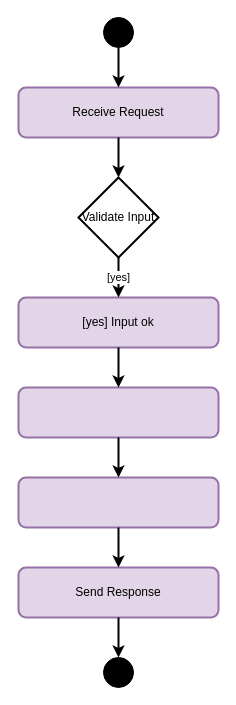
Image size: 236x705. Some labels were removed from this diagram. Each missing label, with the box of its shape:
Persist to DB: (17, 476, 219, 528)
Process Business Logic: (17, 386, 219, 438)
